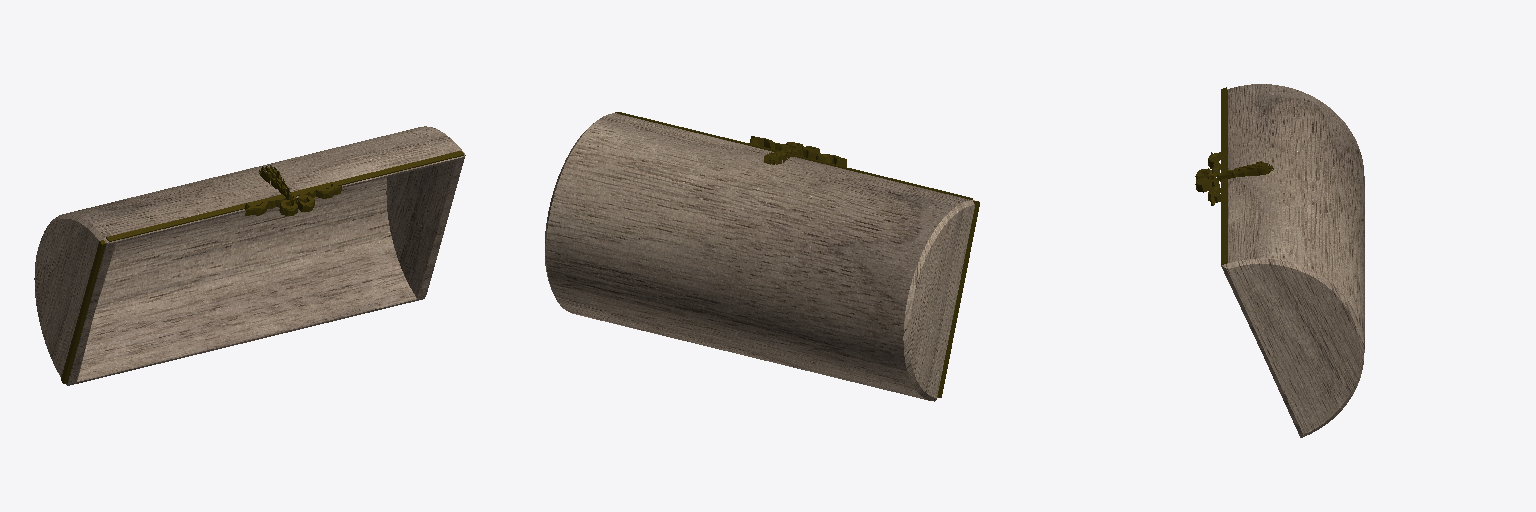
The picture shows the model from 3 angles: view 1: azimuth 30°, elevation 25°; view 2: azimuth 150°, elevation 25°; view 3: azimuth 270°, elevation 25°; orthographic projection.
Bounding box in the file's own units: 2.05 × 1.01 × 0.82.
Materials: 2 (1 with a texture image).